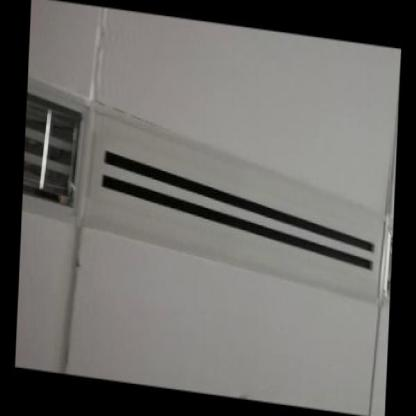light_off: (21, 59, 100, 240)
